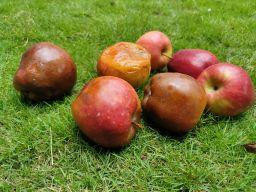apple: (65, 73, 146, 151), (140, 66, 210, 141), (10, 34, 80, 106), (195, 57, 256, 120), (94, 39, 160, 90), (168, 42, 223, 84), (132, 21, 176, 71)
